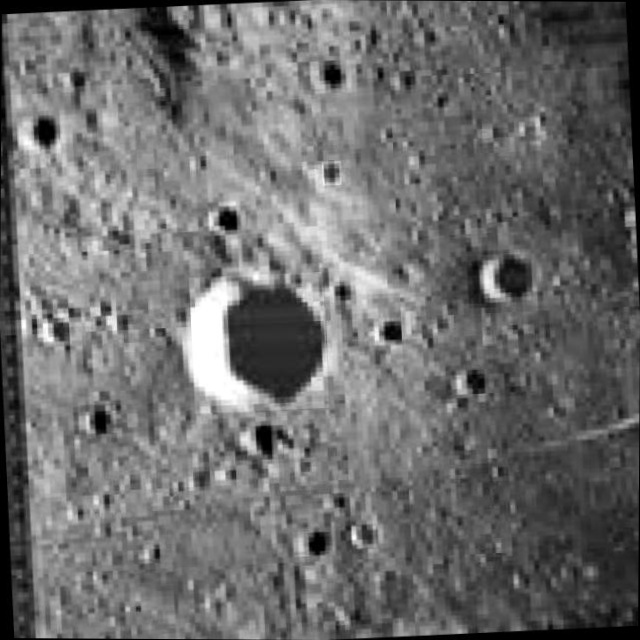crater: (189, 272, 330, 414), (477, 252, 531, 302), (304, 54, 346, 92), (248, 425, 285, 461), (210, 206, 248, 236), (451, 368, 488, 398), (80, 405, 114, 437), (294, 532, 331, 556), (29, 120, 56, 148), (46, 321, 72, 346), (353, 525, 378, 549), (378, 321, 401, 343), (321, 161, 341, 185)
